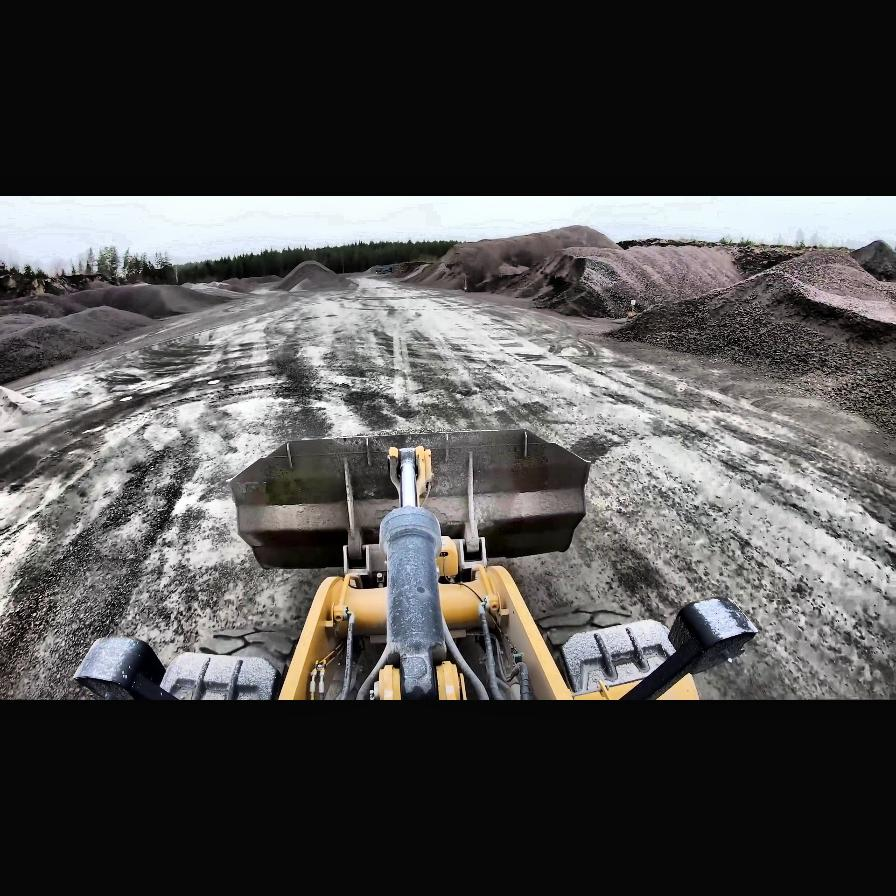anchor: (388, 444, 432, 506)
pile of gravel: (598, 240, 896, 434), (542, 238, 740, 322), (430, 225, 612, 305), (729, 248, 895, 332), (0, 309, 156, 394), (60, 283, 232, 321), (62, 304, 154, 340), (274, 260, 352, 290), (396, 257, 456, 287), (1, 380, 45, 420), (619, 237, 729, 250), (215, 275, 286, 293), (182, 281, 236, 295), (287, 260, 331, 272), (124, 274, 154, 286), (365, 266, 387, 274), (204, 281, 230, 287)
